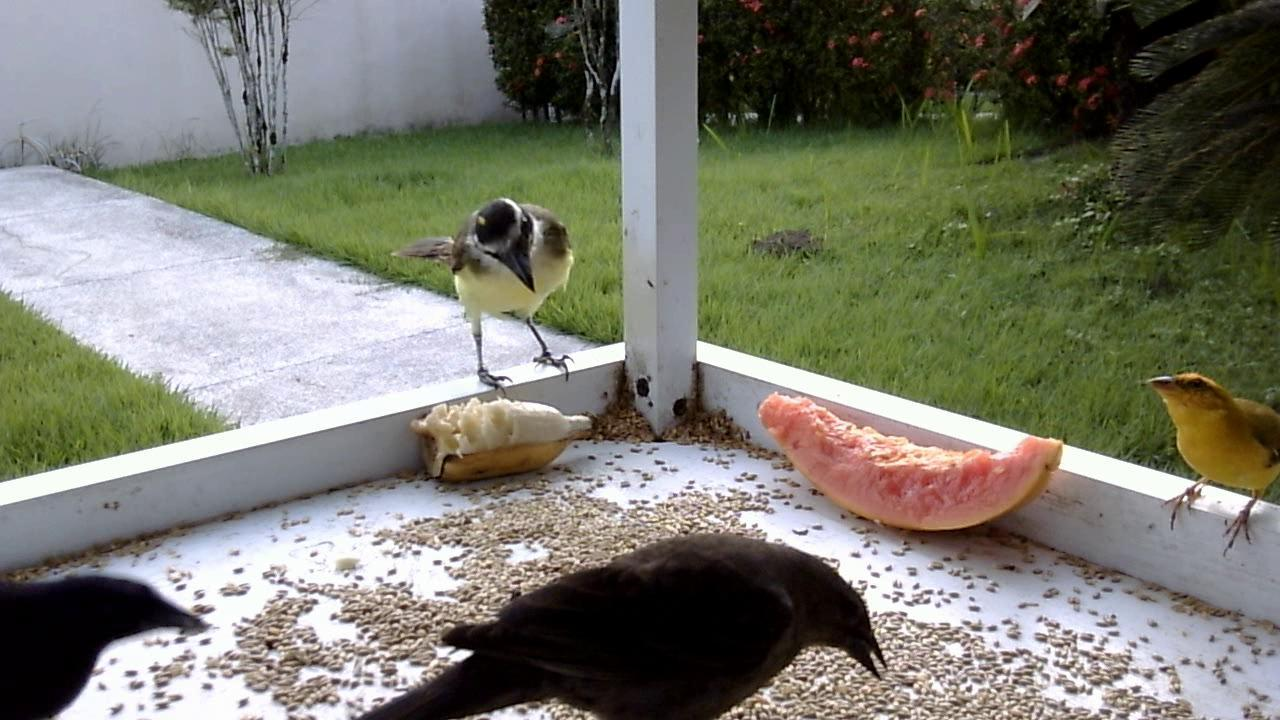bem_te_vi: (387, 190, 582, 408)
canario_do_amazonas: (1134, 367, 1275, 551)
chupim: (354, 530, 892, 718), (5, 558, 221, 720)
